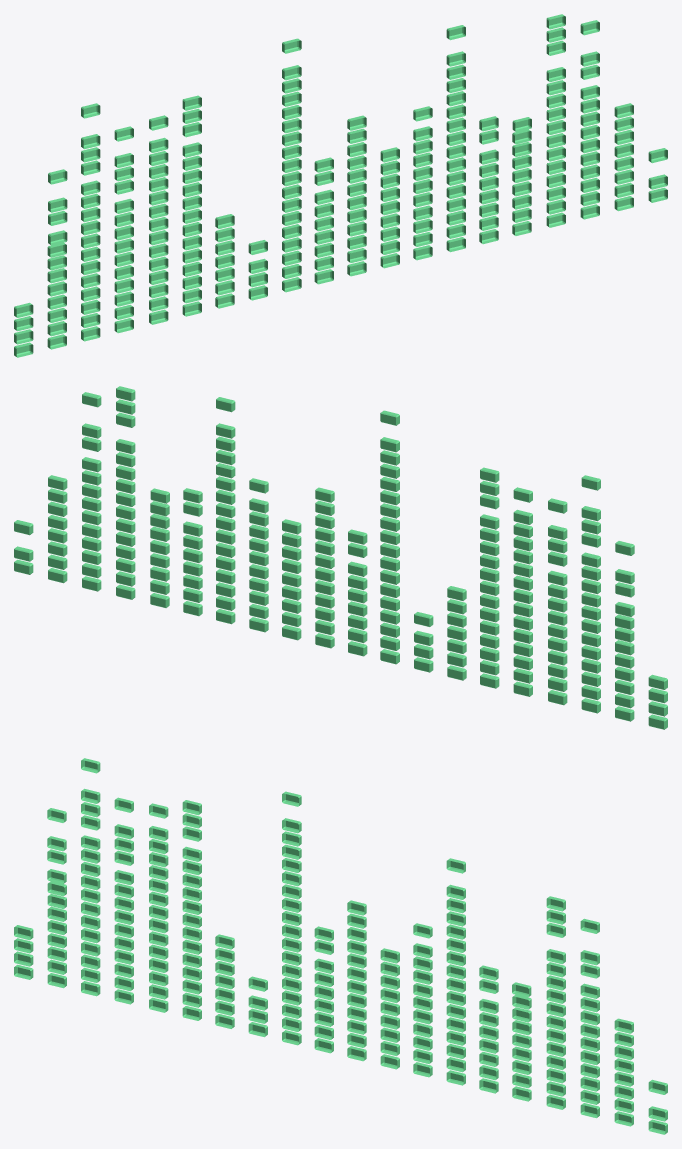
3 renders of one model, top to bottom at view 1: azimuth 30°, elevation 25°; view 2: azimuth 150°, elevation 25°; view 3: azimuth 330°, elevation 25°, orthographic.
Visible parts, largest first — view 1: DJ_ZhuanF; view 2: DJ_ZhuanF; view 3: DJ_ZhuanF.
Part boxes in pixels (x1,y1,x2,y2): DJ_ZhuanF: (14,14,667,357); DJ_ZhuanF: (14,386,667,729); DJ_ZhuanF: (14,758,667,1134).
Bounding box in the file's own units: 4203 × 1532 × 38.41.
